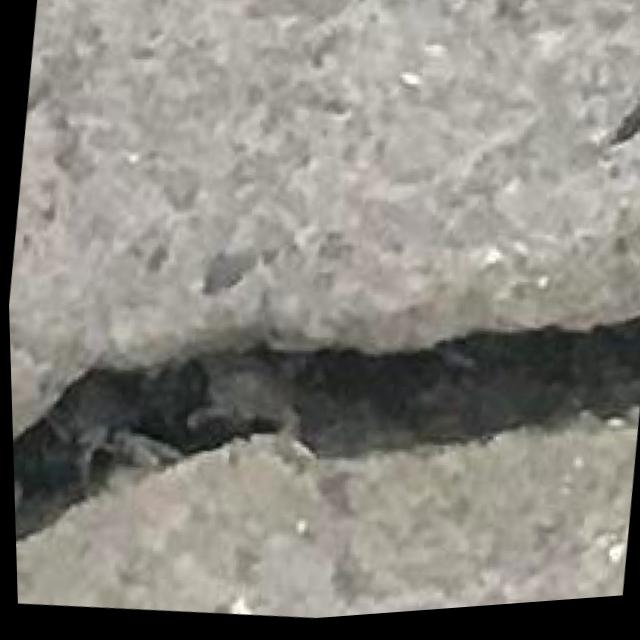Crack: (6, 214, 640, 631)
